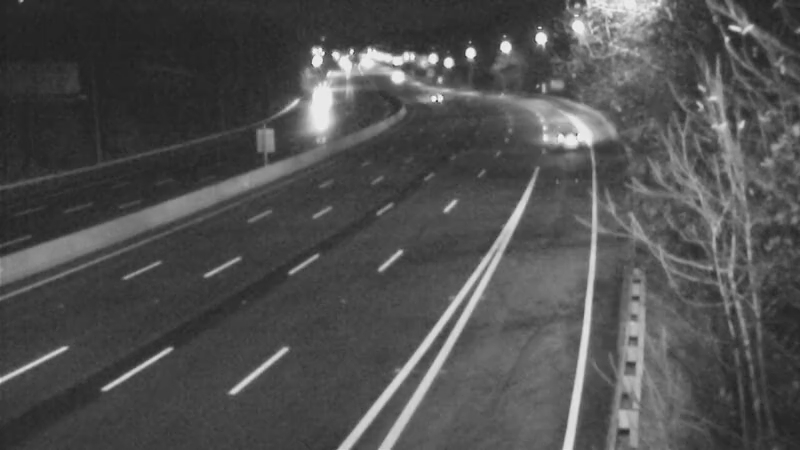vehicle: (368, 52, 418, 102), (409, 72, 459, 122), (538, 113, 588, 163), (290, 77, 340, 127)
